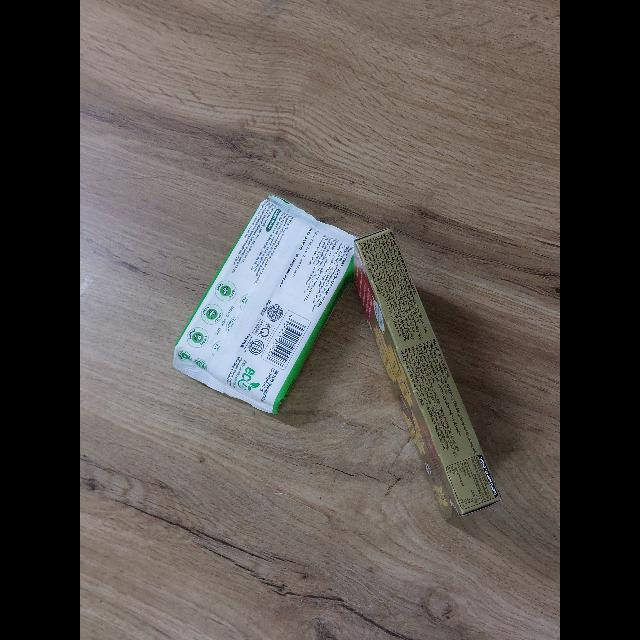banh_toppo_socola: (353, 228, 501, 518)
khan_giay: (173, 195, 358, 414)
